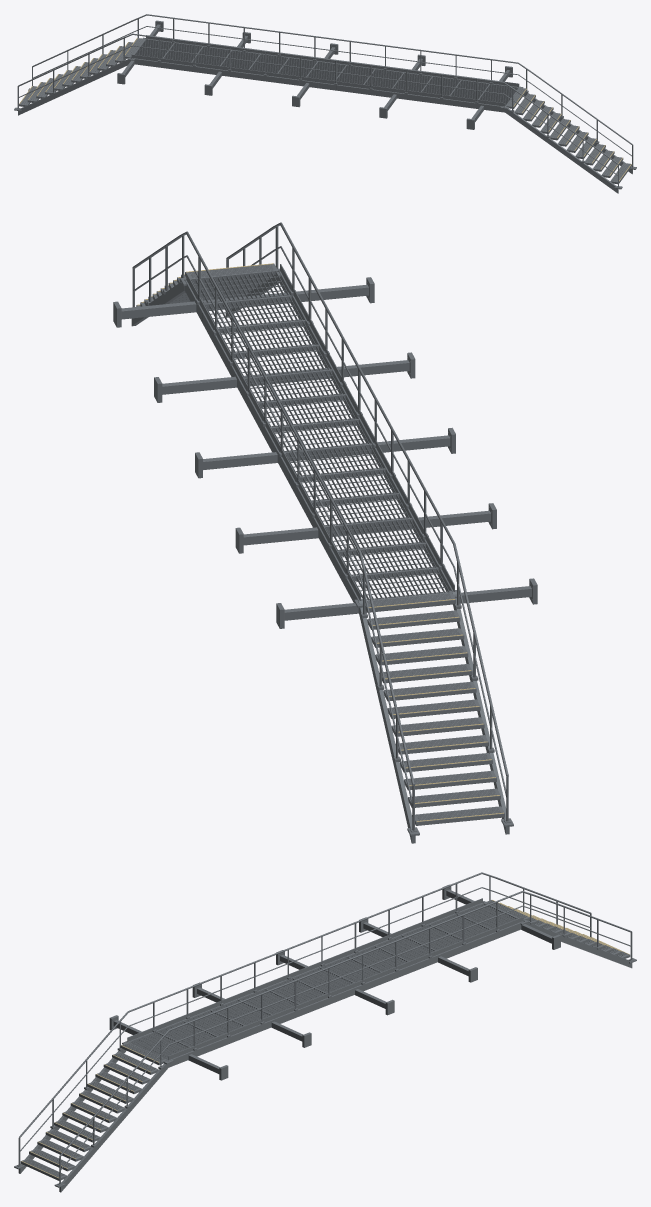
Rendered from BD_T03_UpperWalk.fbx.
3 renders of one model, top to bottom at view 1: azimuth 30°, elevation 25°; view 2: azimuth 150°, elevation 25°; view 3: azimuth 270°, elevation 25°, orthographic. The views are drawn at different scales.
Parts seen in each view (by area): view 1: BD_T03_UpperWalk; view 2: BD_T03_UpperWalk; view 3: BD_T03_UpperWalk.
Part boxes in pixels (x1=…): BD_T03_UpperWalk: x1=14, y1=14, x2=636, y2=193; BD_T03_UpperWalk: x1=113, y1=222, x2=537, y2=843; BD_T03_UpperWalk: x1=14, y1=872, x2=636, y2=1192.
Size of the model in its own units: 1547 by 350 by 1647.
